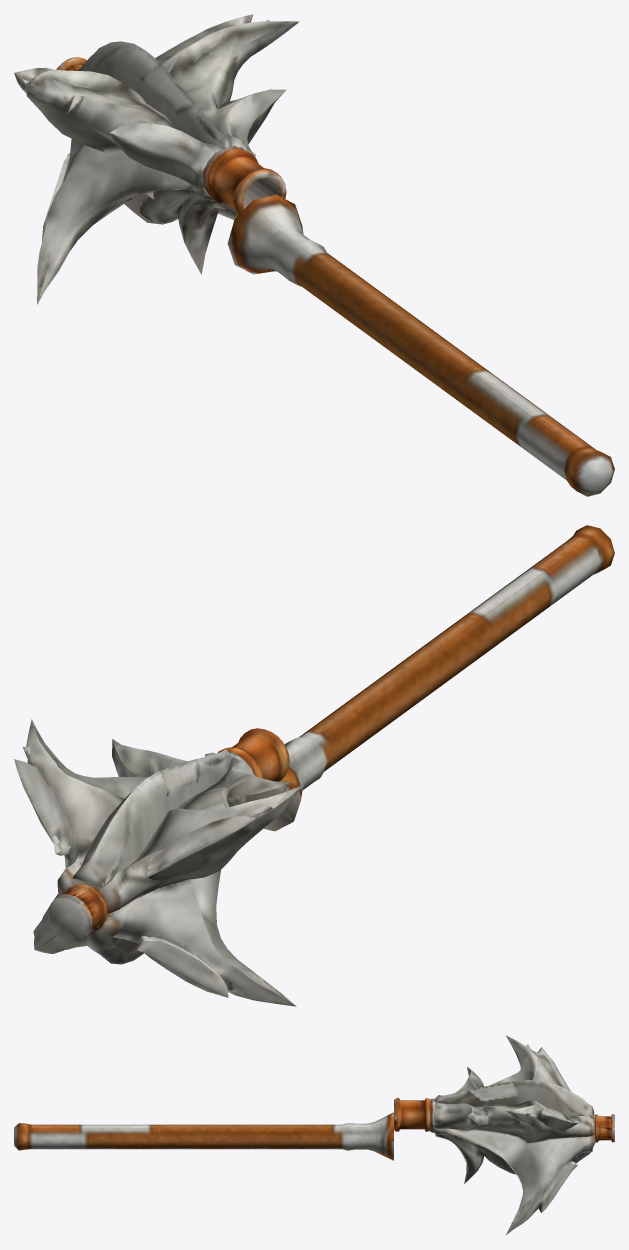
The model's file is item_mm9_10070.glb.
The picture shows the model from 3 angles, top to bottom: view 1: azimuth 30°, elevation 25°; view 2: azimuth 150°, elevation 25°; view 3: azimuth 270°, elevation 25°; orthographic projection. The views are drawn at different scales.
Parts seen in each view (by area): view 1: d10070; view 2: d10070; view 3: d10070.
Part boxes in pixels (left/top/right/bottom): d10070: left=14, top=14, right=614, bottom=496; d10070: left=14, top=525, right=614, bottom=1006; d10070: left=14, top=1035, right=614, bottom=1235.
Bounding box in the file's own units: 44.71 × 35.09 × 151.
1 material, 1 textured.
